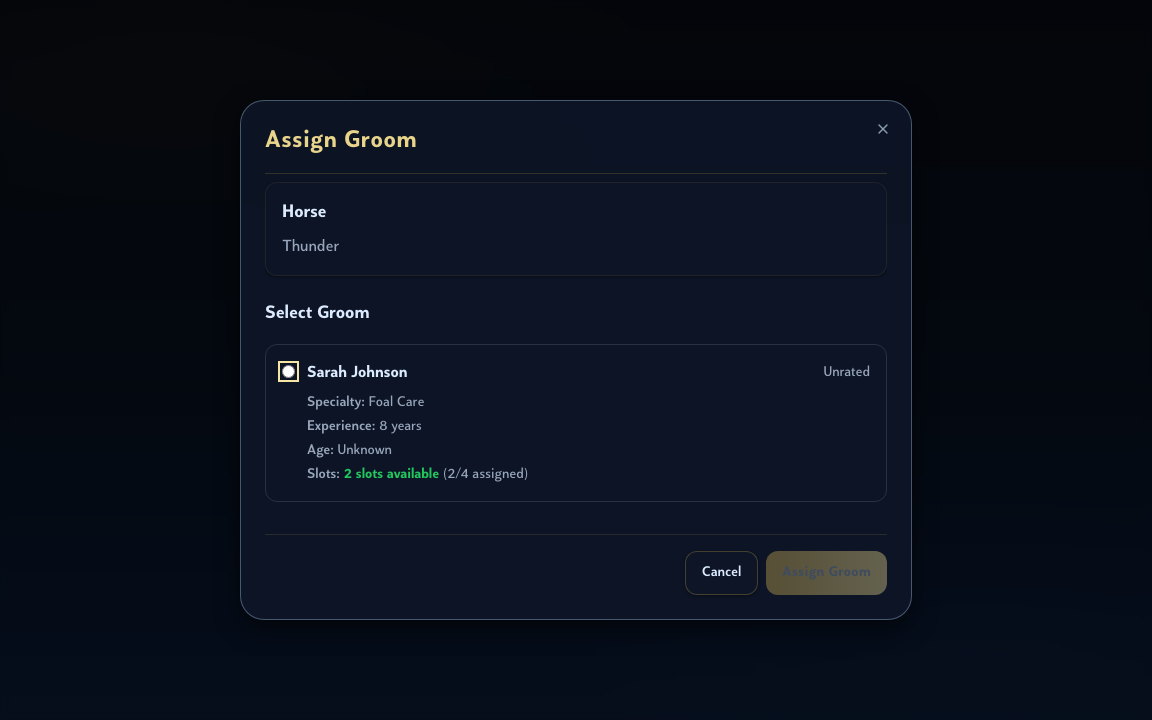
Test: a retired horse refused for staff (Equoria-70gu6) › the groom assignment dialog names the refusal
Click the radio button labelled "Sarah Johnson" at (288, 372), box [282,365,295,378]
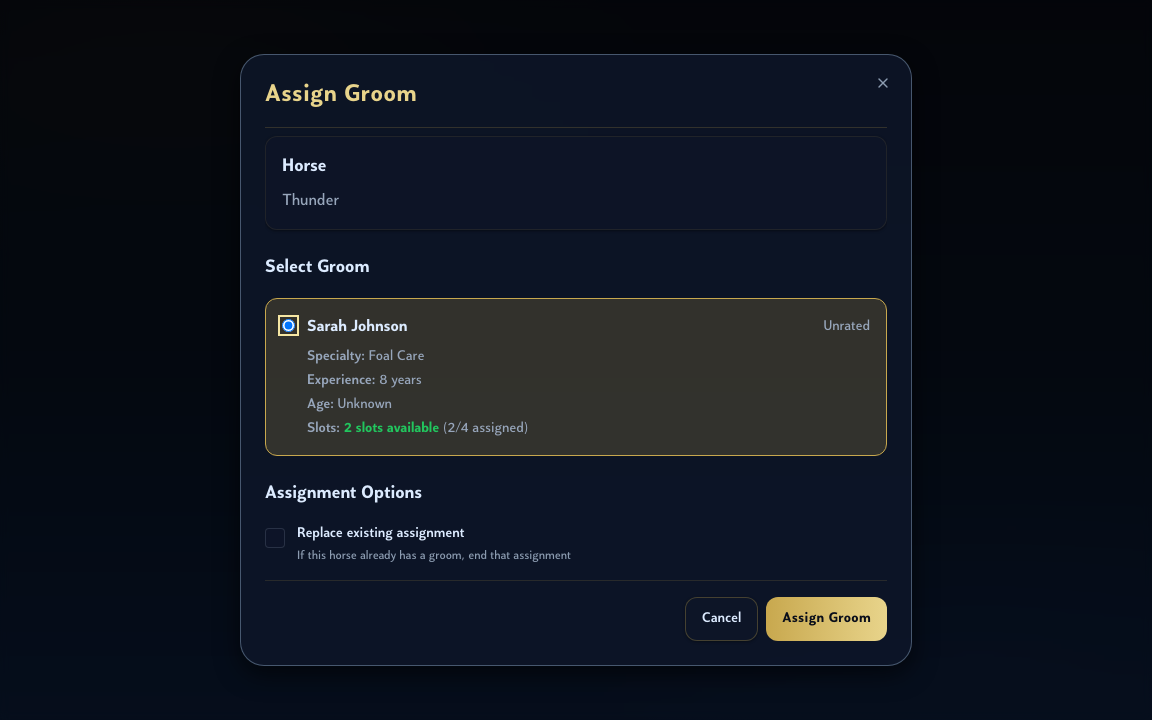
Click the button "Assign Groom" at (827, 619), box [766,597,887,641]
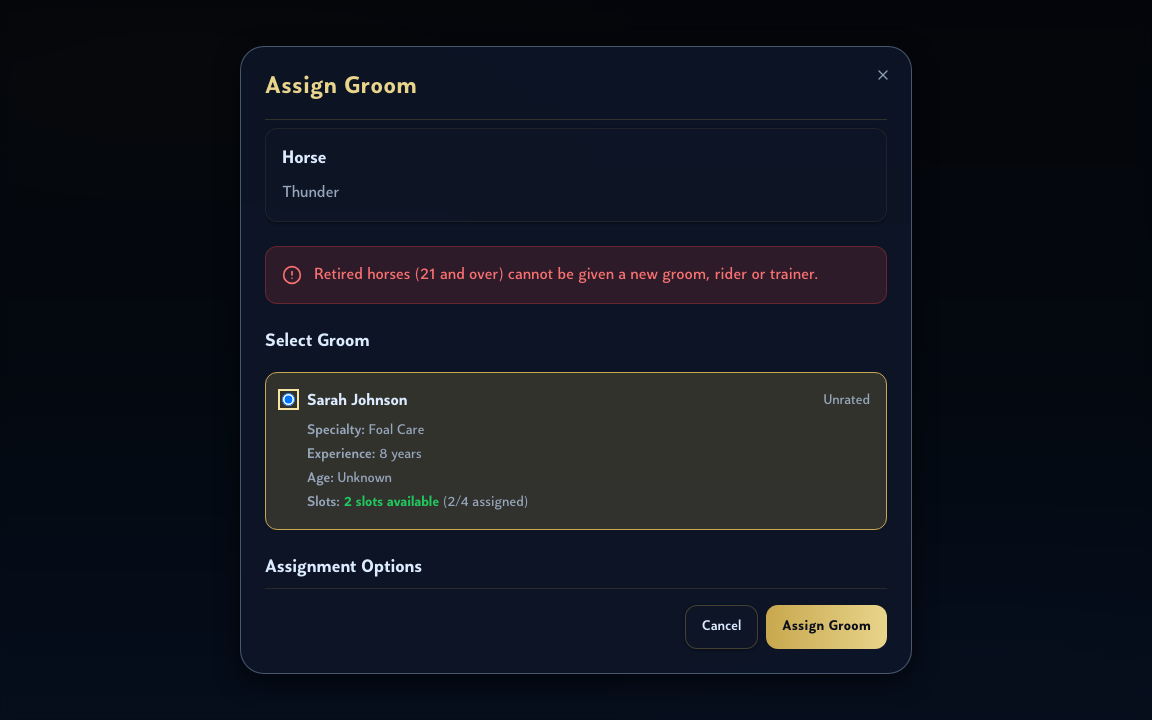
Result: the message shows "Retired horses (21 and over) cannot be given a new groom, rider or trainer" at [314,267,818,283]
